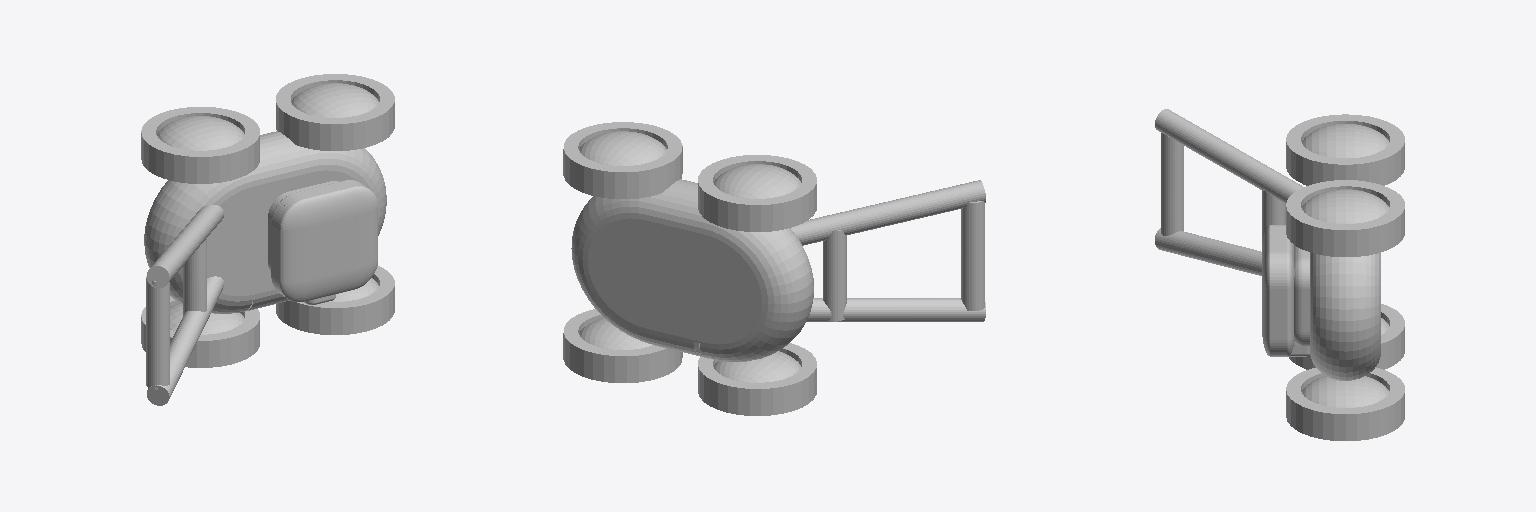
File: tinker.obj
The picture shows the model from 3 angles: view 1: azimuth 30°, elevation 25°; view 2: azimuth 150°, elevation 25°; view 3: azimuth 270°, elevation 25°; orthographic projection.
Parts seen in each view (by area): view 1: obj_0; view 2: obj_0; view 3: obj_0.
Part boxes in pixels (bbox=[...]): obj_0: bbox=[141, 74, 394, 405]; obj_0: bbox=[563, 122, 985, 415]; obj_0: bbox=[1155, 109, 1404, 440].
Size of the model in its own units: 31.68 by 21 by 21.